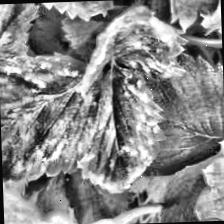Powdery Mildew Leaf: (0, 51, 106, 183), (74, 61, 170, 194), (78, 4, 192, 97), (4, 0, 116, 23)
